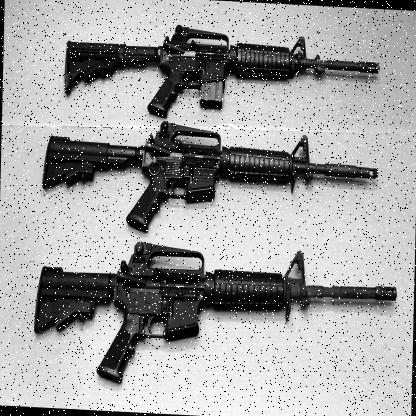rifle: (32, 230, 398, 394), (40, 116, 380, 241), (64, 15, 380, 125)
